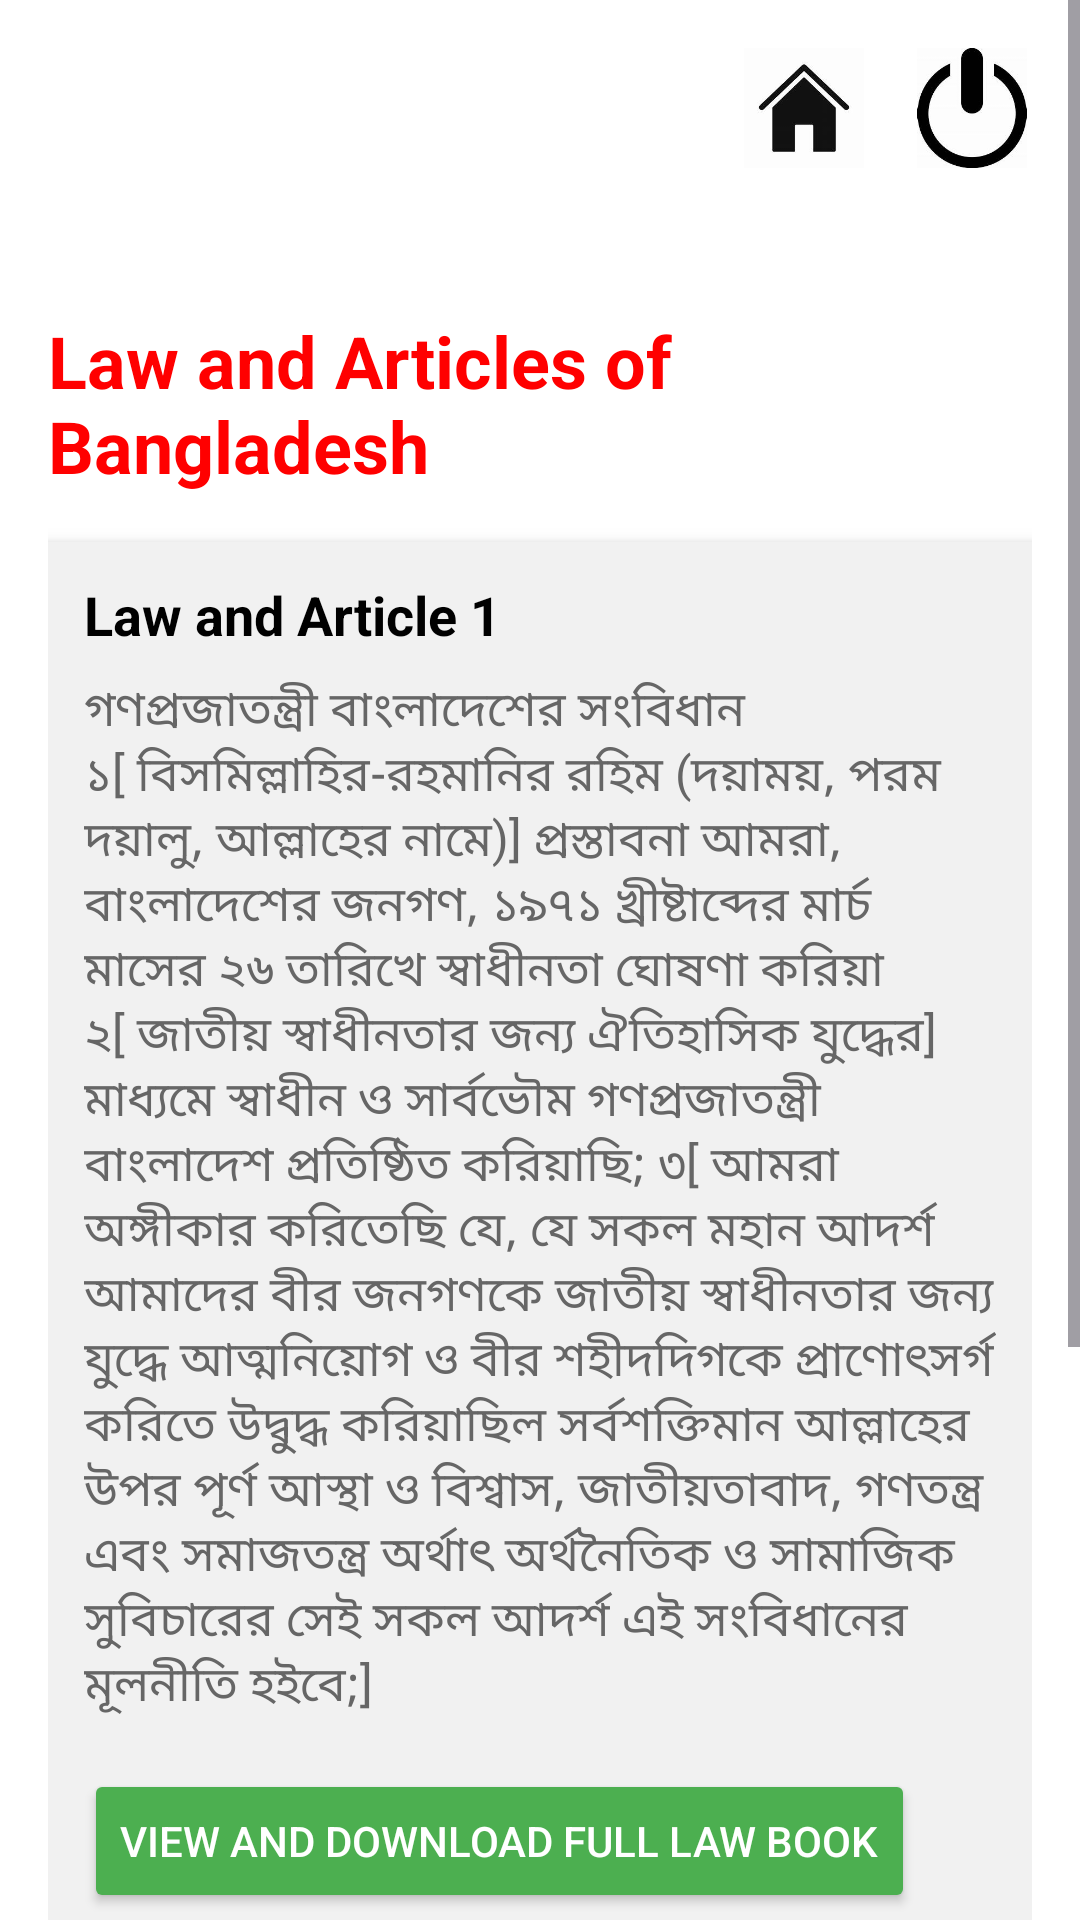

Screen size 1080x1920. Icon name, then its center in pixels as (x=x, y=y):
Home: (x=804, y=108)
